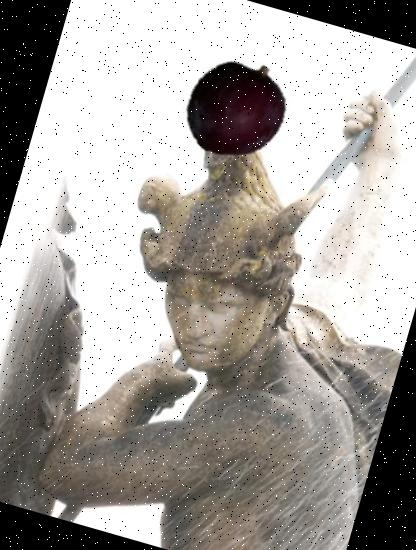Plum: (172, 45, 299, 172)
